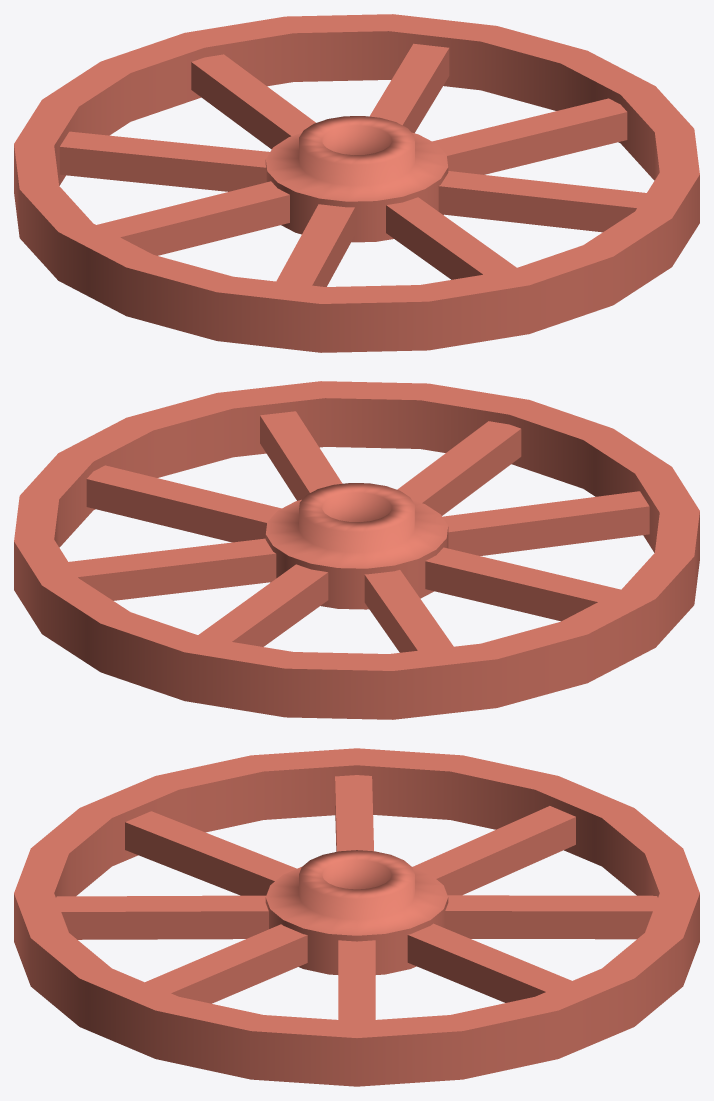
File: SM_wheel.fbx
3 renders of one model, top to bottom at view 1: azimuth 30°, elevation 25°; view 2: azimuth 150°, elevation 25°; view 3: azimuth 270°, elevation 25°, orthographic.
Visible parts, largest first — view 1: SM_wheel; view 2: SM_wheel; view 3: SM_wheel.
Part boxes in pixels (x1,y1,x2,y2): SM_wheel: (14,14,699,352); SM_wheel: (14,381,699,719); SM_wheel: (14,748,699,1086).
Bounding box in the file's own units: 126 × 13.64 × 126.
